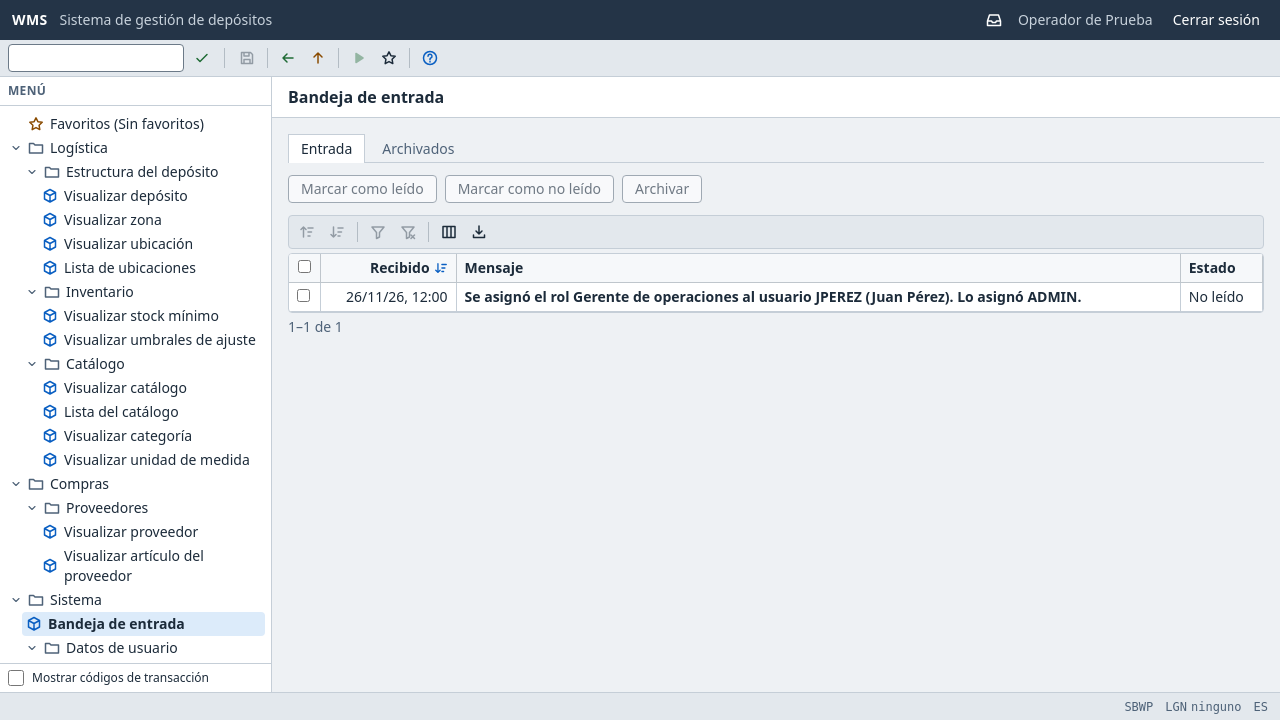
Test: aviso de rol crítico › muestra el texto con el nombre del rol y abre el usuario
Double-click the text "Se asignó el rol Gerente de operaciones al usuario JPEREZ (Juan Pérez). Lo asignó ADMIN." at (773, 296), box [464, 287, 1081, 306]
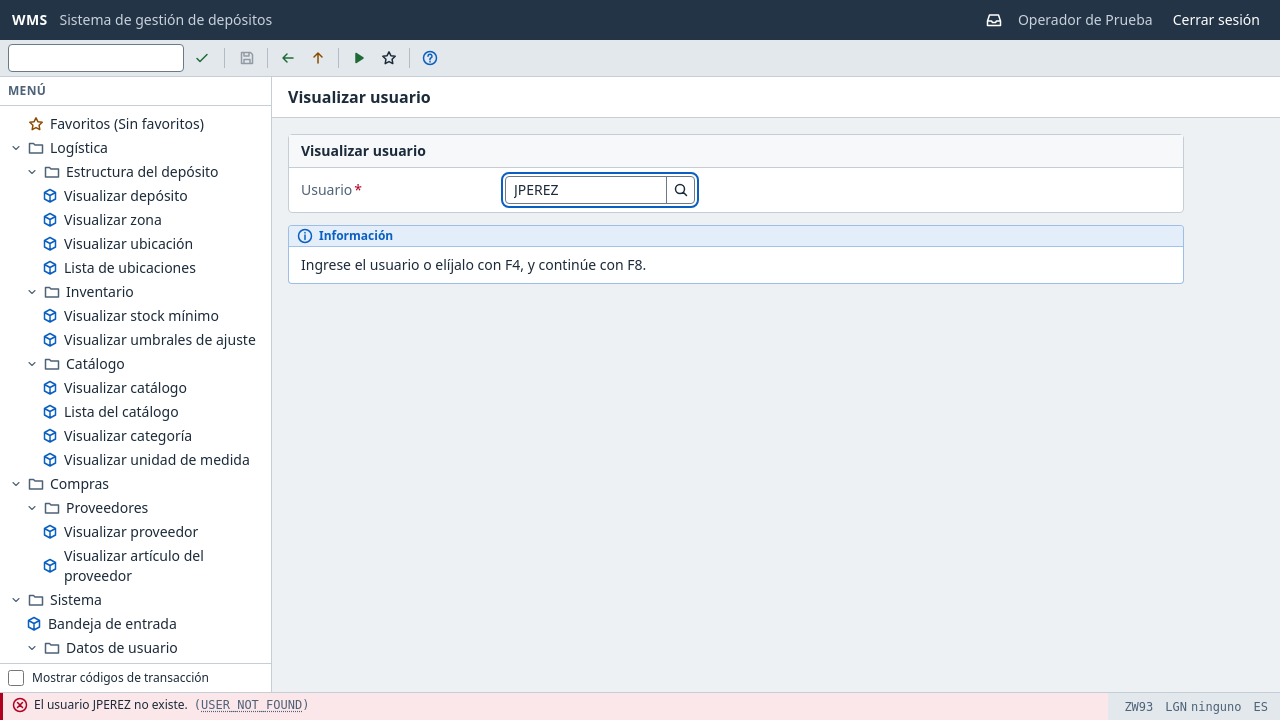
Check: the 1st heading "Visualizar usuario" is shown, box [288, 85, 431, 109]
